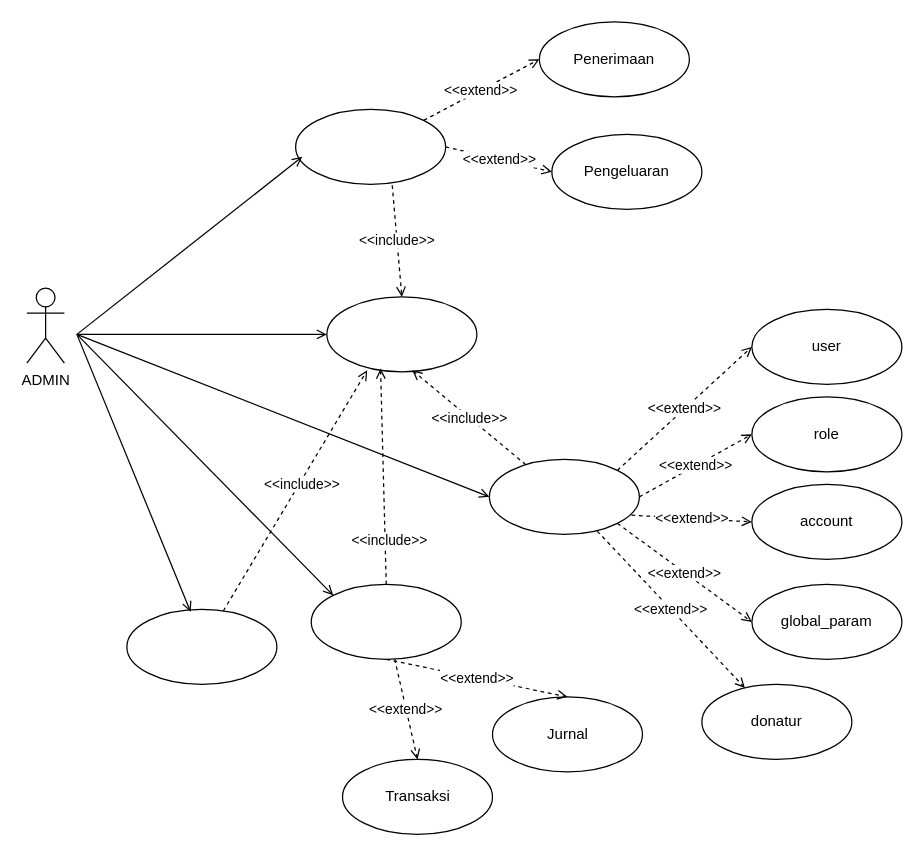
This 924x856 diagram has some shape labels left out. The shapes that lost their labels are listed below. From the top down, each one's box as (x1, y1, x2, y2) in pixels, then its label:
(294, 108, 446, 184): kelola transaksi
(326, 296, 477, 372): Login
(488, 458, 639, 534): kelola data master
(310, 583, 461, 659): Melihat laporan
(126, 608, 277, 684): Logout
